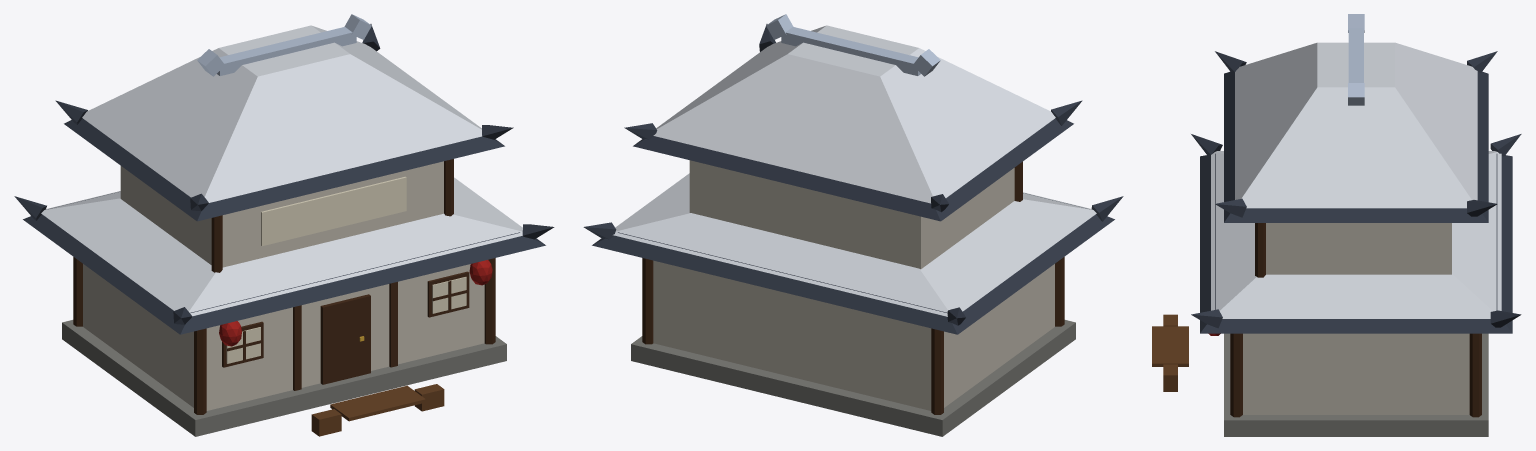
Rendered from SM_GZ_inn_frost.fbx.
3 views of the same model, side by side, from view 1: azimuth 30°, elevation 25°; view 2: azimuth 150°, elevation 25°; view 3: azimuth 270°, elevation 25° (orthographic).
Visible parts, largest first — view 1: SM_GZ_inn_frost; view 2: SM_GZ_inn_frost; view 3: SM_GZ_inn_frost.
Part boxes in pixels (x1,y1,x2,y2): SM_GZ_inn_frost: [14, 14, 554, 436]; SM_GZ_inn_frost: [583, 14, 1123, 436]; SM_GZ_inn_frost: [1152, 14, 1521, 436].
Size of the model in its own units: 1164 by 939 by 1005.
